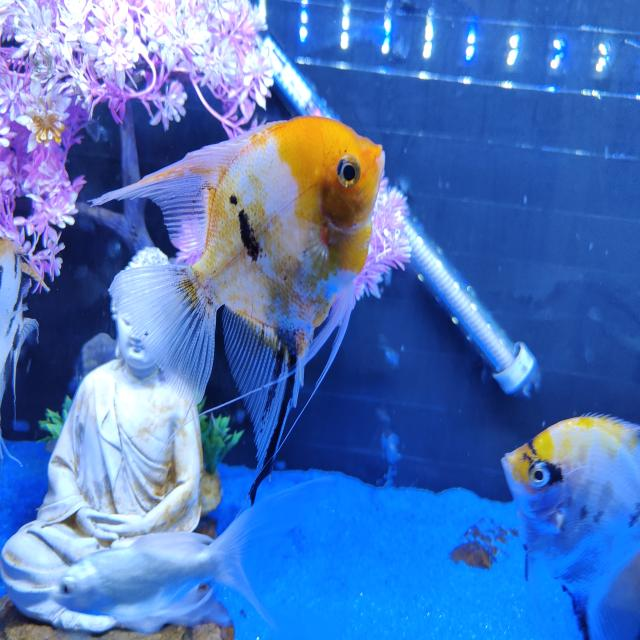Fish: (92, 117, 383, 469), (52, 477, 334, 633), (501, 416, 639, 639), (0, 238, 47, 402)
